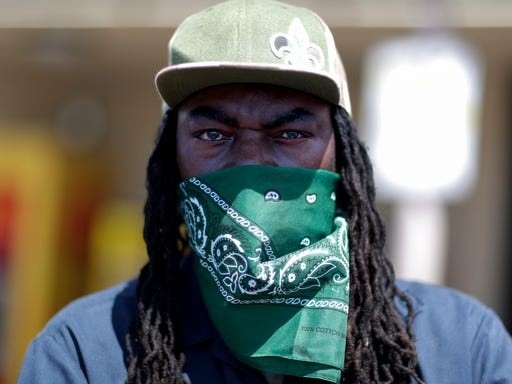face_with_mask: (164, 9, 350, 284)
